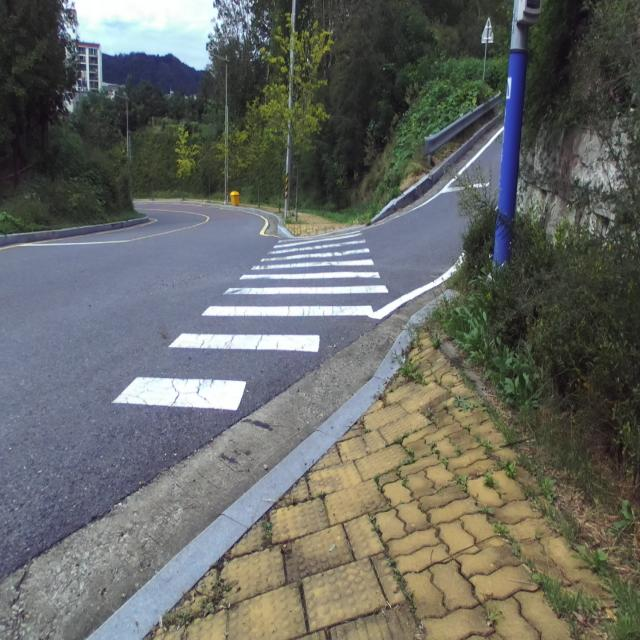횡단보도: (112, 230, 388, 410)
